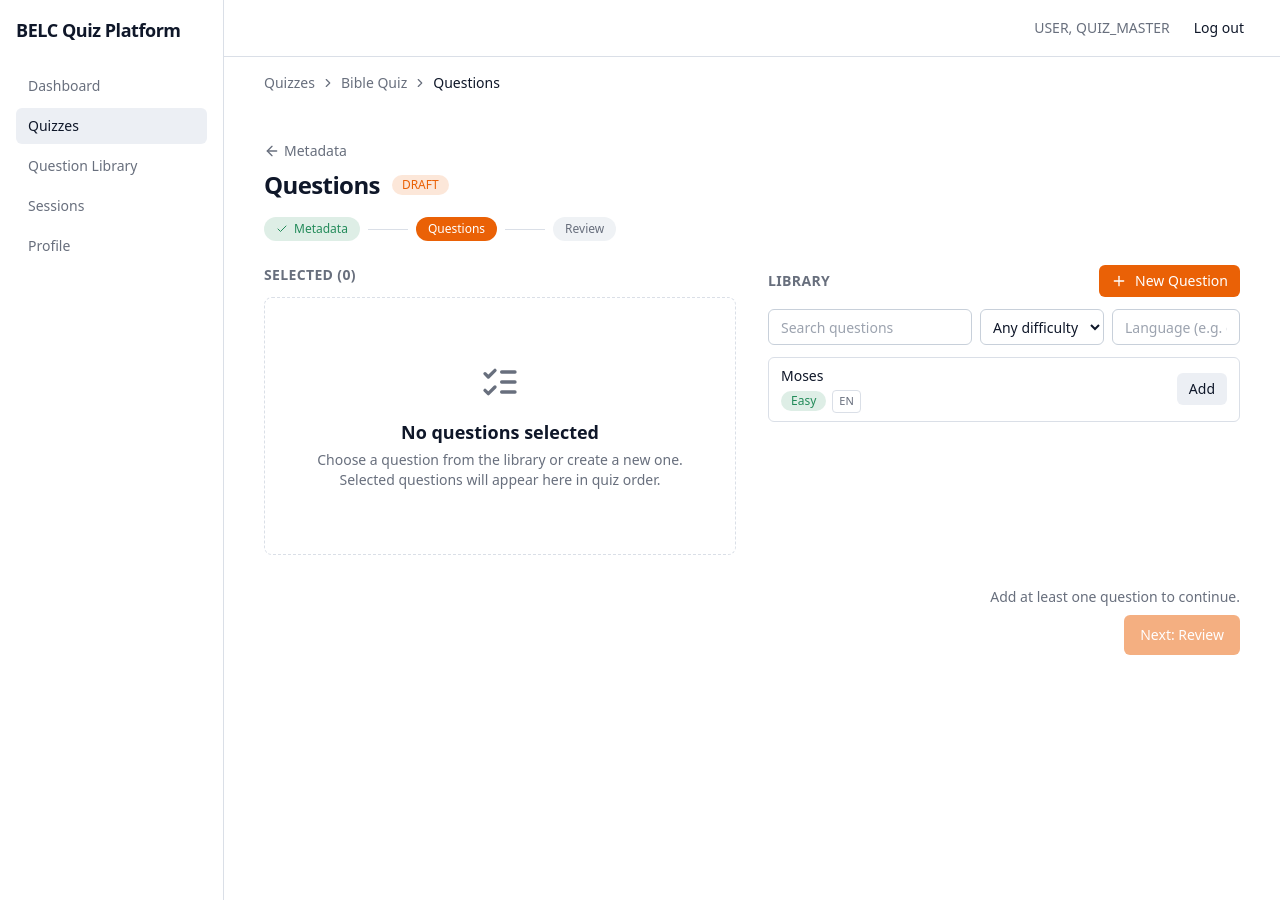
QuizQuestionsPage › attaches a question from the library
Expected: the text "Moses" is shown, [781,366,824,385]
Click the button "Add" at (1202, 389), box [1177,373,1227,405]
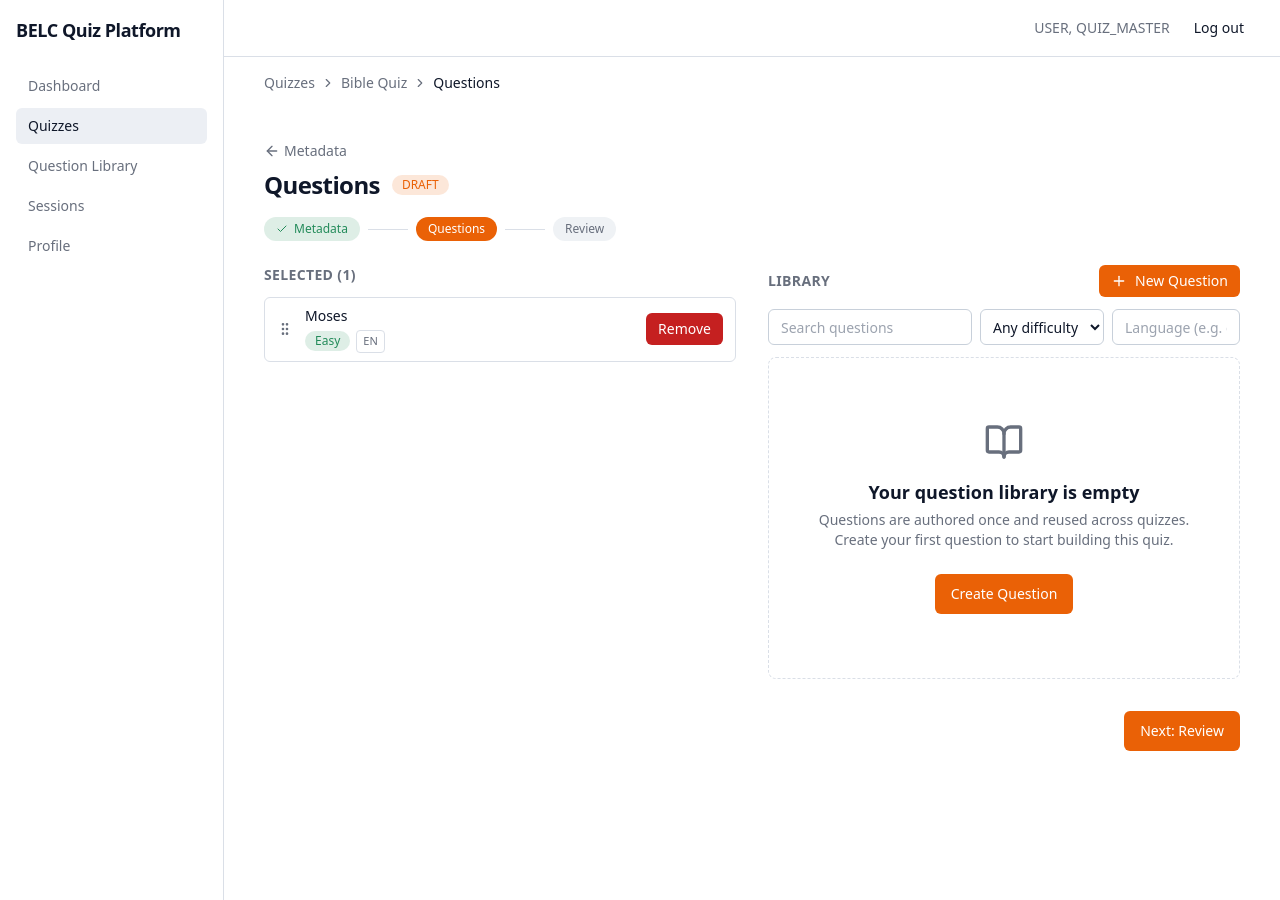
Now the heading "Selected (1)" is shown, box [264,265,356,284]
